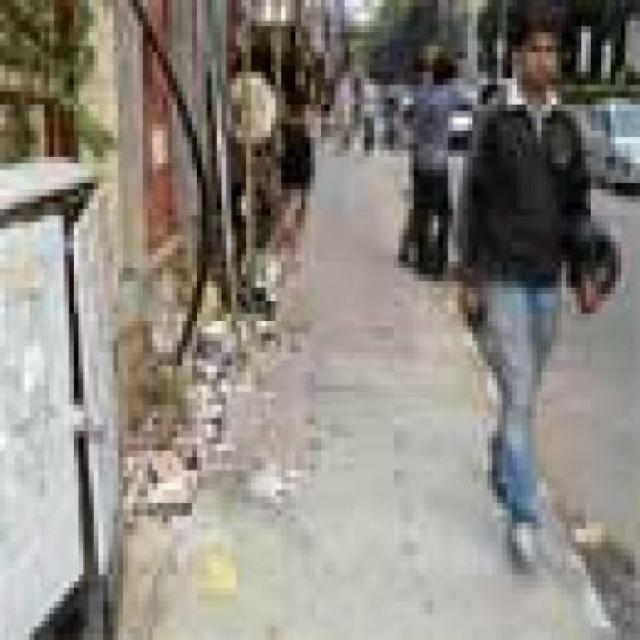garbage: (114, 262, 222, 516)
